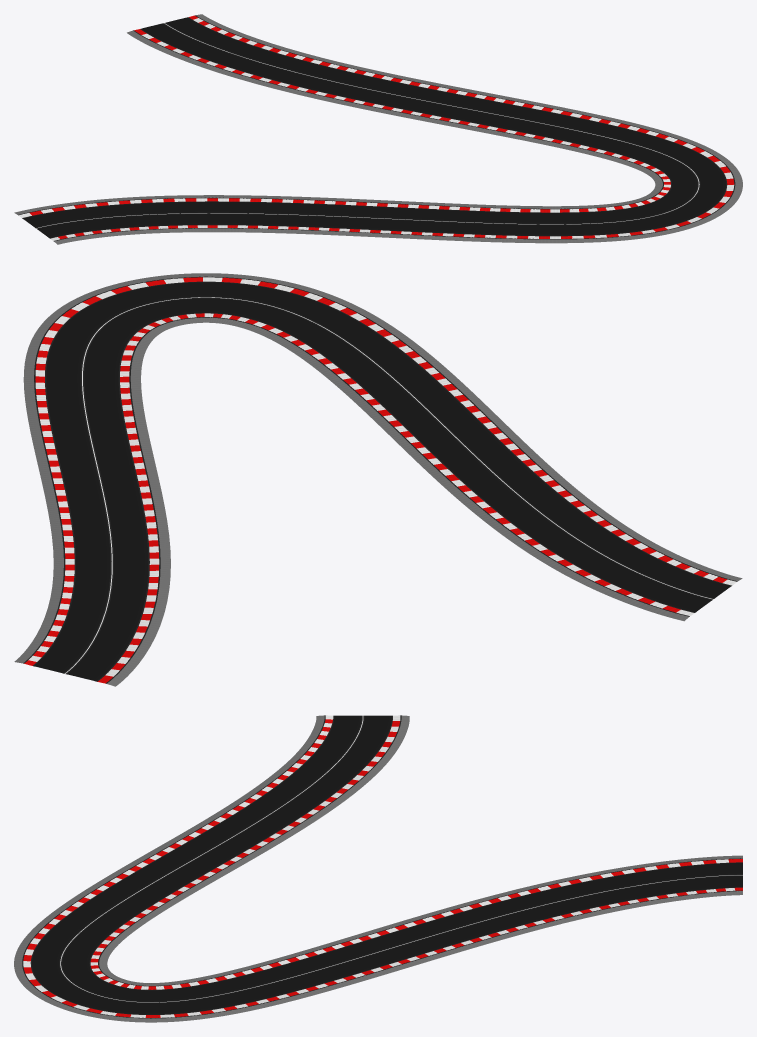
Rendered from S0.Group.202.export.A1L1H0cornRhard.glb.
The picture shows the model from 3 angles, top to bottom: view 1: azimuth 30°, elevation 25°; view 2: azimuth 150°, elevation 25°; view 3: azimuth 270°, elevation 25°; orthographic projection. The views are drawn at different scales.
Parts seen in each view (by area): view 1: Grid; view 2: Grid; view 3: Grid.
Boxes of the visible parts, box(x1,y1,x2,y2) form: Grid: box(14, 14, 742, 244); Grid: box(14, 273, 742, 686); Grid: box(14, 715, 742, 1022).
Bounding box in the file's own units: 194 × 0.2329 × 195.
